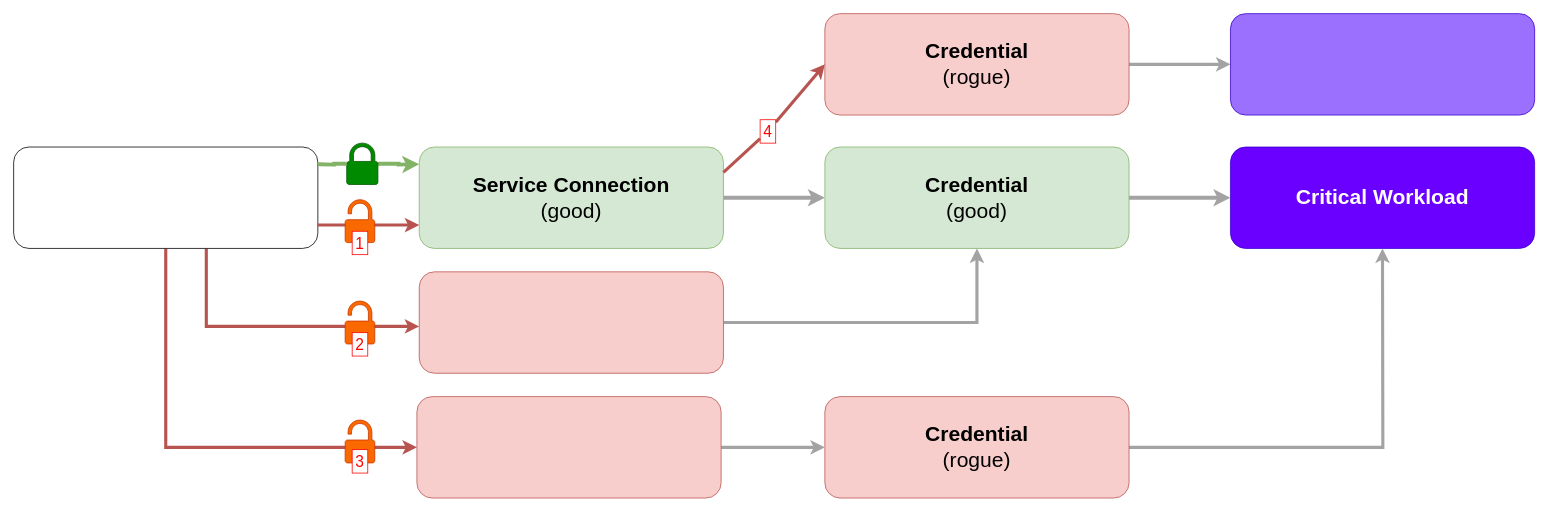
Some shapes in this 1548 by 512 pixel diagram are drawn without their labels. The centre of each missing label's shape, as x and y in pixels:
"Other Workload" belongs at point (1382, 64).
"Pipeline" belongs at point (165, 197).
"Service Connection (rogue)" belongs at point (568, 447).
"Service Connection (rogue, twin)" belongs at point (570, 322).
